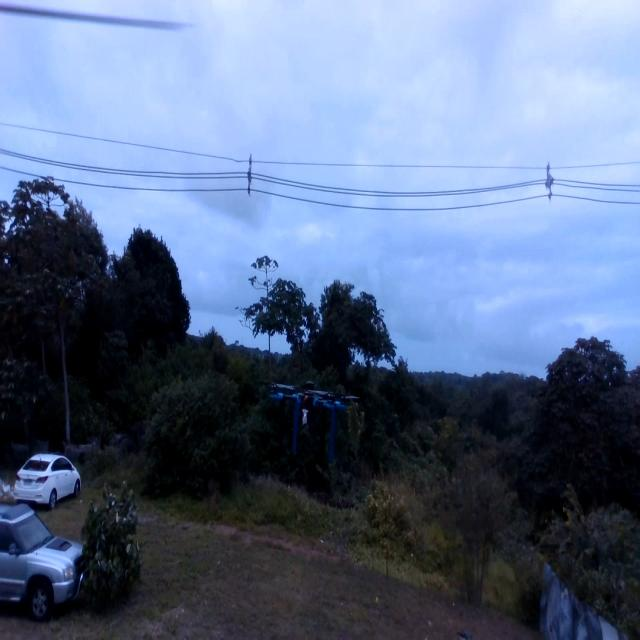-uav-: (261, 374, 363, 478)
